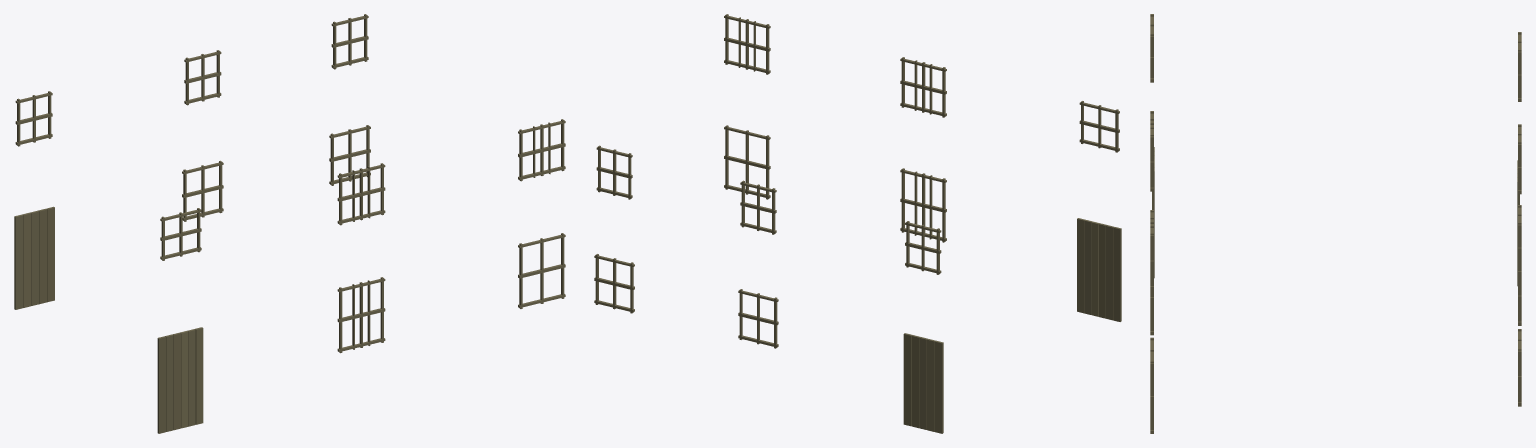
Rendered from SM_Bld_159_Wood.glb.
The picture shows the model from 3 angles, left to right: view 1: azimuth 30°, elevation 25°; view 2: azimuth 150°, elevation 25°; view 3: azimuth 270°, elevation 25°; orthographic projection. The views are drawn at different scales.
Visible parts, largest first — view 1: SM_Bld_159_Wood; view 2: SM_Bld_159_Wood; view 3: SM_Bld_159_Wood.
Boxes of the visible parts, left/top/right/bottom form: SM_Bld_159_Wood: left=14, top=14, right=565, bottom=433; SM_Bld_159_Wood: left=594, top=14, right=1121, bottom=433; SM_Bld_159_Wood: left=1150, top=14, right=1521, bottom=433.
Bounding box in the file's own units: 9.16 × 4.65 × 6.46.
